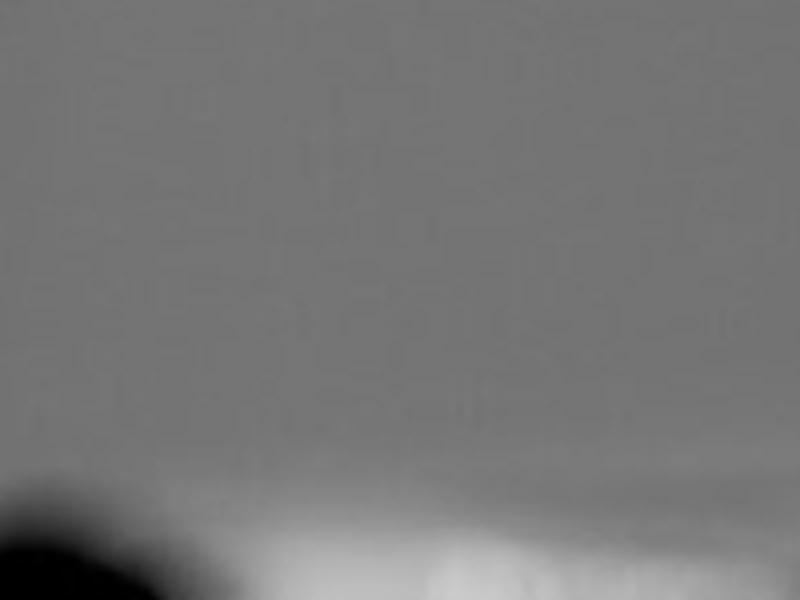defect: (3, 524, 201, 600)
